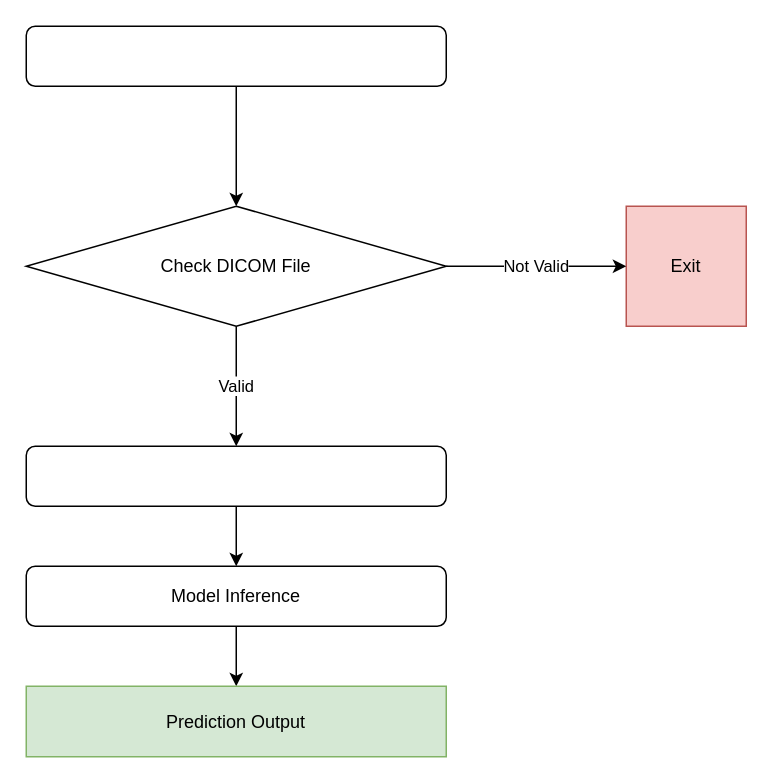
This 773x783 diagram has some shape labels left out. The shapes that lost their labels are listed below. From the top down, each one's centre as x and y in pixels, then its label:
pixel 235 55: Load DICOM of X-ray
pixel 235 475: Image Processing
